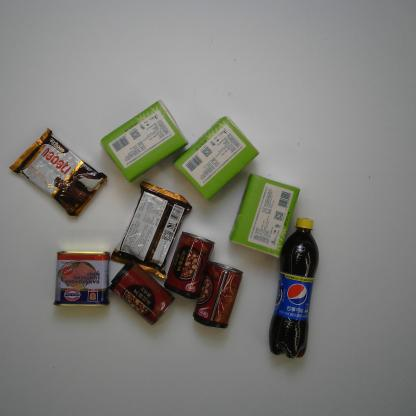Canned Food: (108, 260, 176, 326), (191, 260, 245, 330), (162, 231, 216, 300), (53, 249, 112, 308)
Dessert: (8, 127, 108, 220), (110, 180, 192, 280)
Drink: (266, 216, 321, 359)
Tissue: (98, 98, 190, 183), (172, 114, 260, 202), (228, 172, 301, 259)
